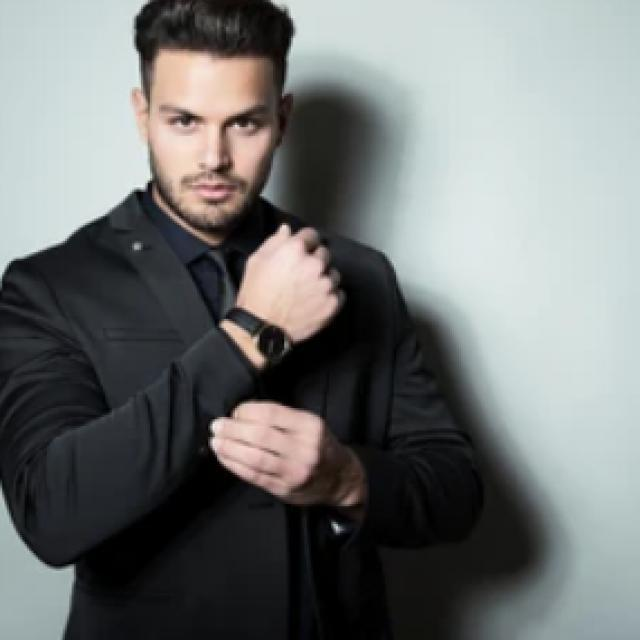Watch: (223, 300, 293, 362)
